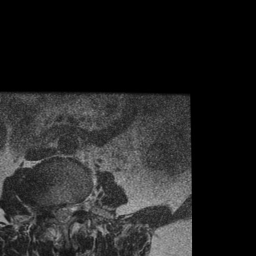CCS_normal: (58, 195, 65, 231)
LFS_normal: (72, 192, 82, 220)
LLS_normal: (65, 194, 72, 225)
RFS_severe_stenosis: (41, 195, 50, 222)
RLS_normal: (50, 195, 58, 226)
